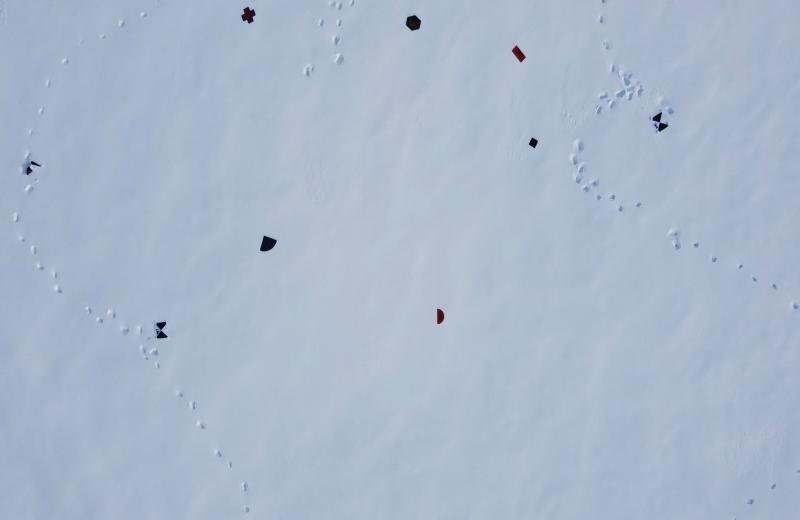Cross: (240, 5, 257, 25)
Hexagon: (405, 14, 423, 32)
Quarter Circle: (257, 234, 278, 254)
Rectangle: (512, 46, 526, 66)
Semi Circle: (435, 306, 446, 326)
Square: (528, 136, 539, 151)
